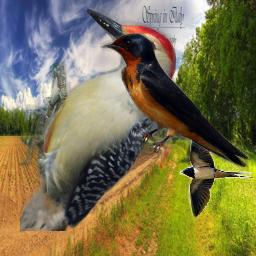Swallow: (100, 33, 249, 171), (180, 119, 254, 220)
Woodpecker: (20, 8, 176, 231)
